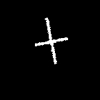single_crochet: (35, 18, 67, 63)
